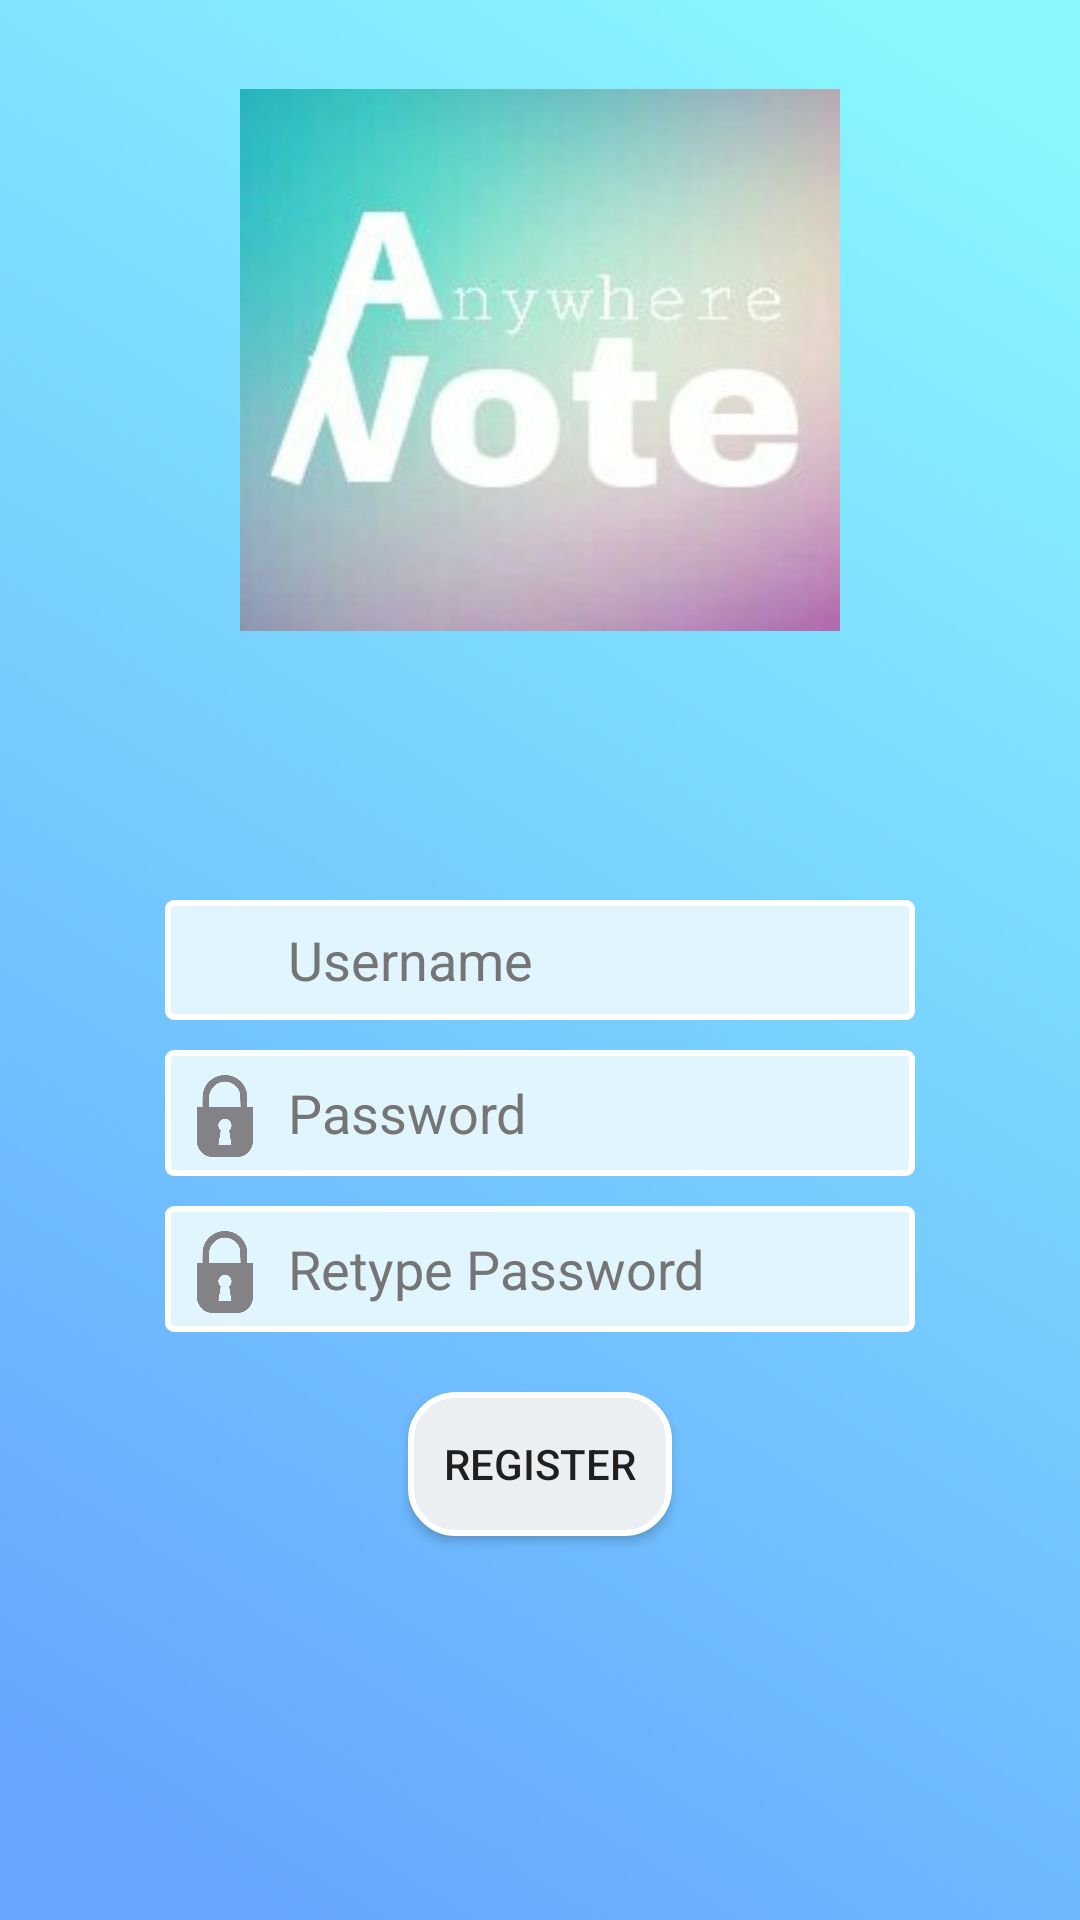

Where icons sit on this 1080x1920 app screen, as (x1, y1, x2, y2):
lock: (197, 1075, 253, 1157), (197, 1231, 253, 1313)
